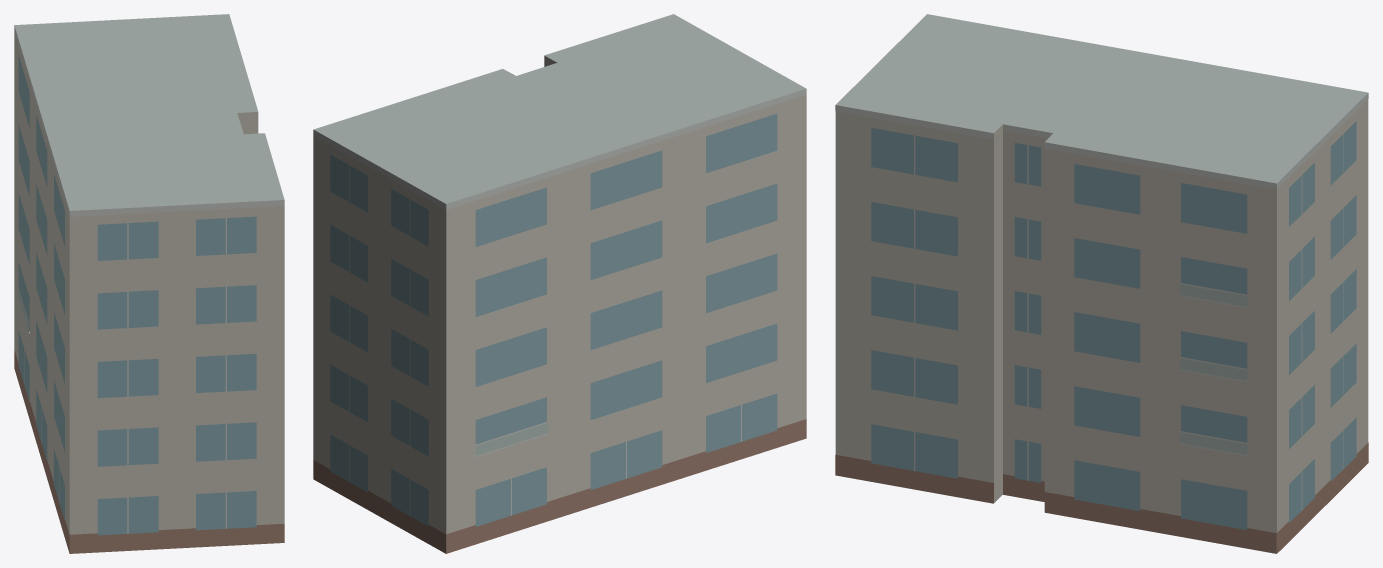
File: survey-upis-32537729.glb
3 renders of one model, left to right at view 1: azimuth 30°, elevation 25°; view 2: azimuth 150°, elevation 25°; view 3: azimuth 270°, elevation 25°, orthographic. The views are drawn at different scales.
Visible parts, largest first — view 1: survey-upis-32537729.tmp; view 2: survey-upis-32537729.tmp; view 3: survey-upis-32537729.tmp.
Boxes of the visible parts, <box> form: survey-upis-32537729.tmp: <box>14,14,284,553</box>; survey-upis-32537729.tmp: <box>313,14,806,553</box>; survey-upis-32537729.tmp: <box>835,14,1368,553</box>.
Bounding box in the file's own units: 14.04 × 14.3 × 18.66.
